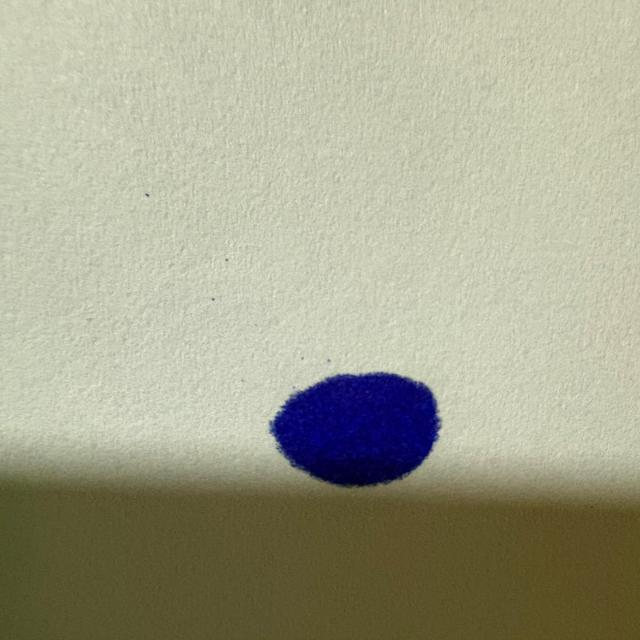Circle: (260, 369, 449, 495)
